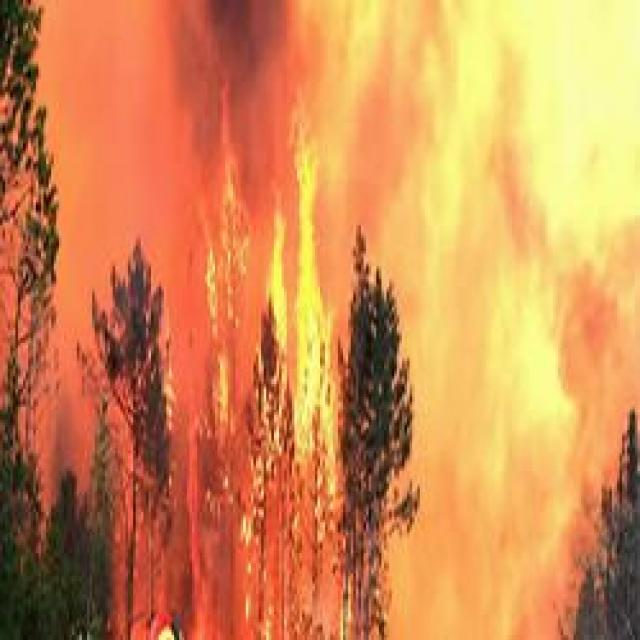fire: (172, 87, 348, 530)
